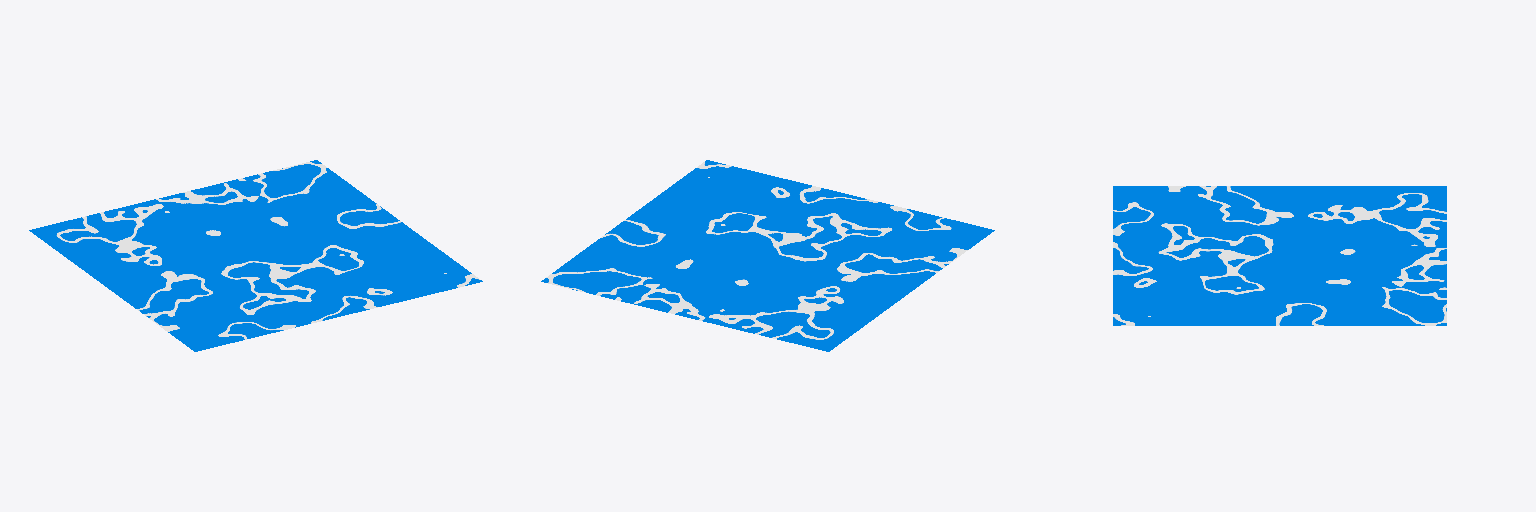
The picture shows the model from 3 angles: view 1: azimuth 30°, elevation 25°; view 2: azimuth 150°, elevation 25°; view 3: azimuth 270°, elevation 25°; orthographic projection.
Parts seen in each view (by area): view 1: Plane; view 2: Plane; view 3: Plane.
Part boxes in pixels (x1,y1,x2,y2): Plane: (29,160,482,351); Plane: (541,160,994,351); Plane: (1113,186,1446,325).
Size of the model in its own units: 32.45 by 0 by 32.45.
Materials: 1 (1 with a texture image).